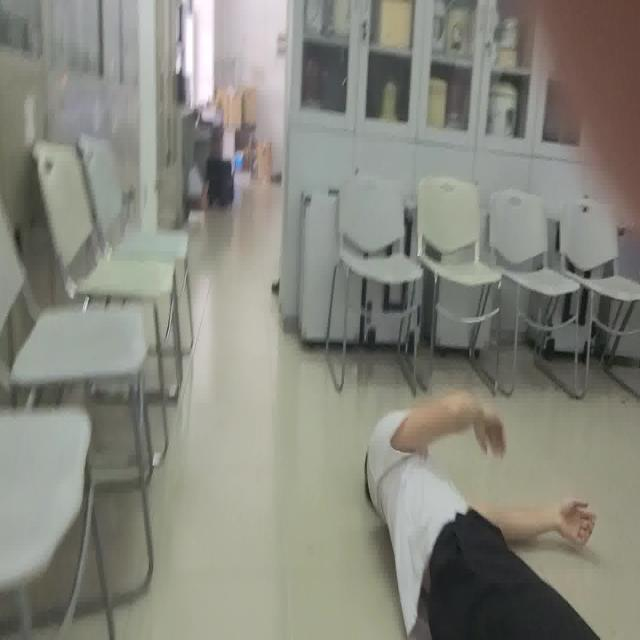fall: (362, 397, 604, 640)
